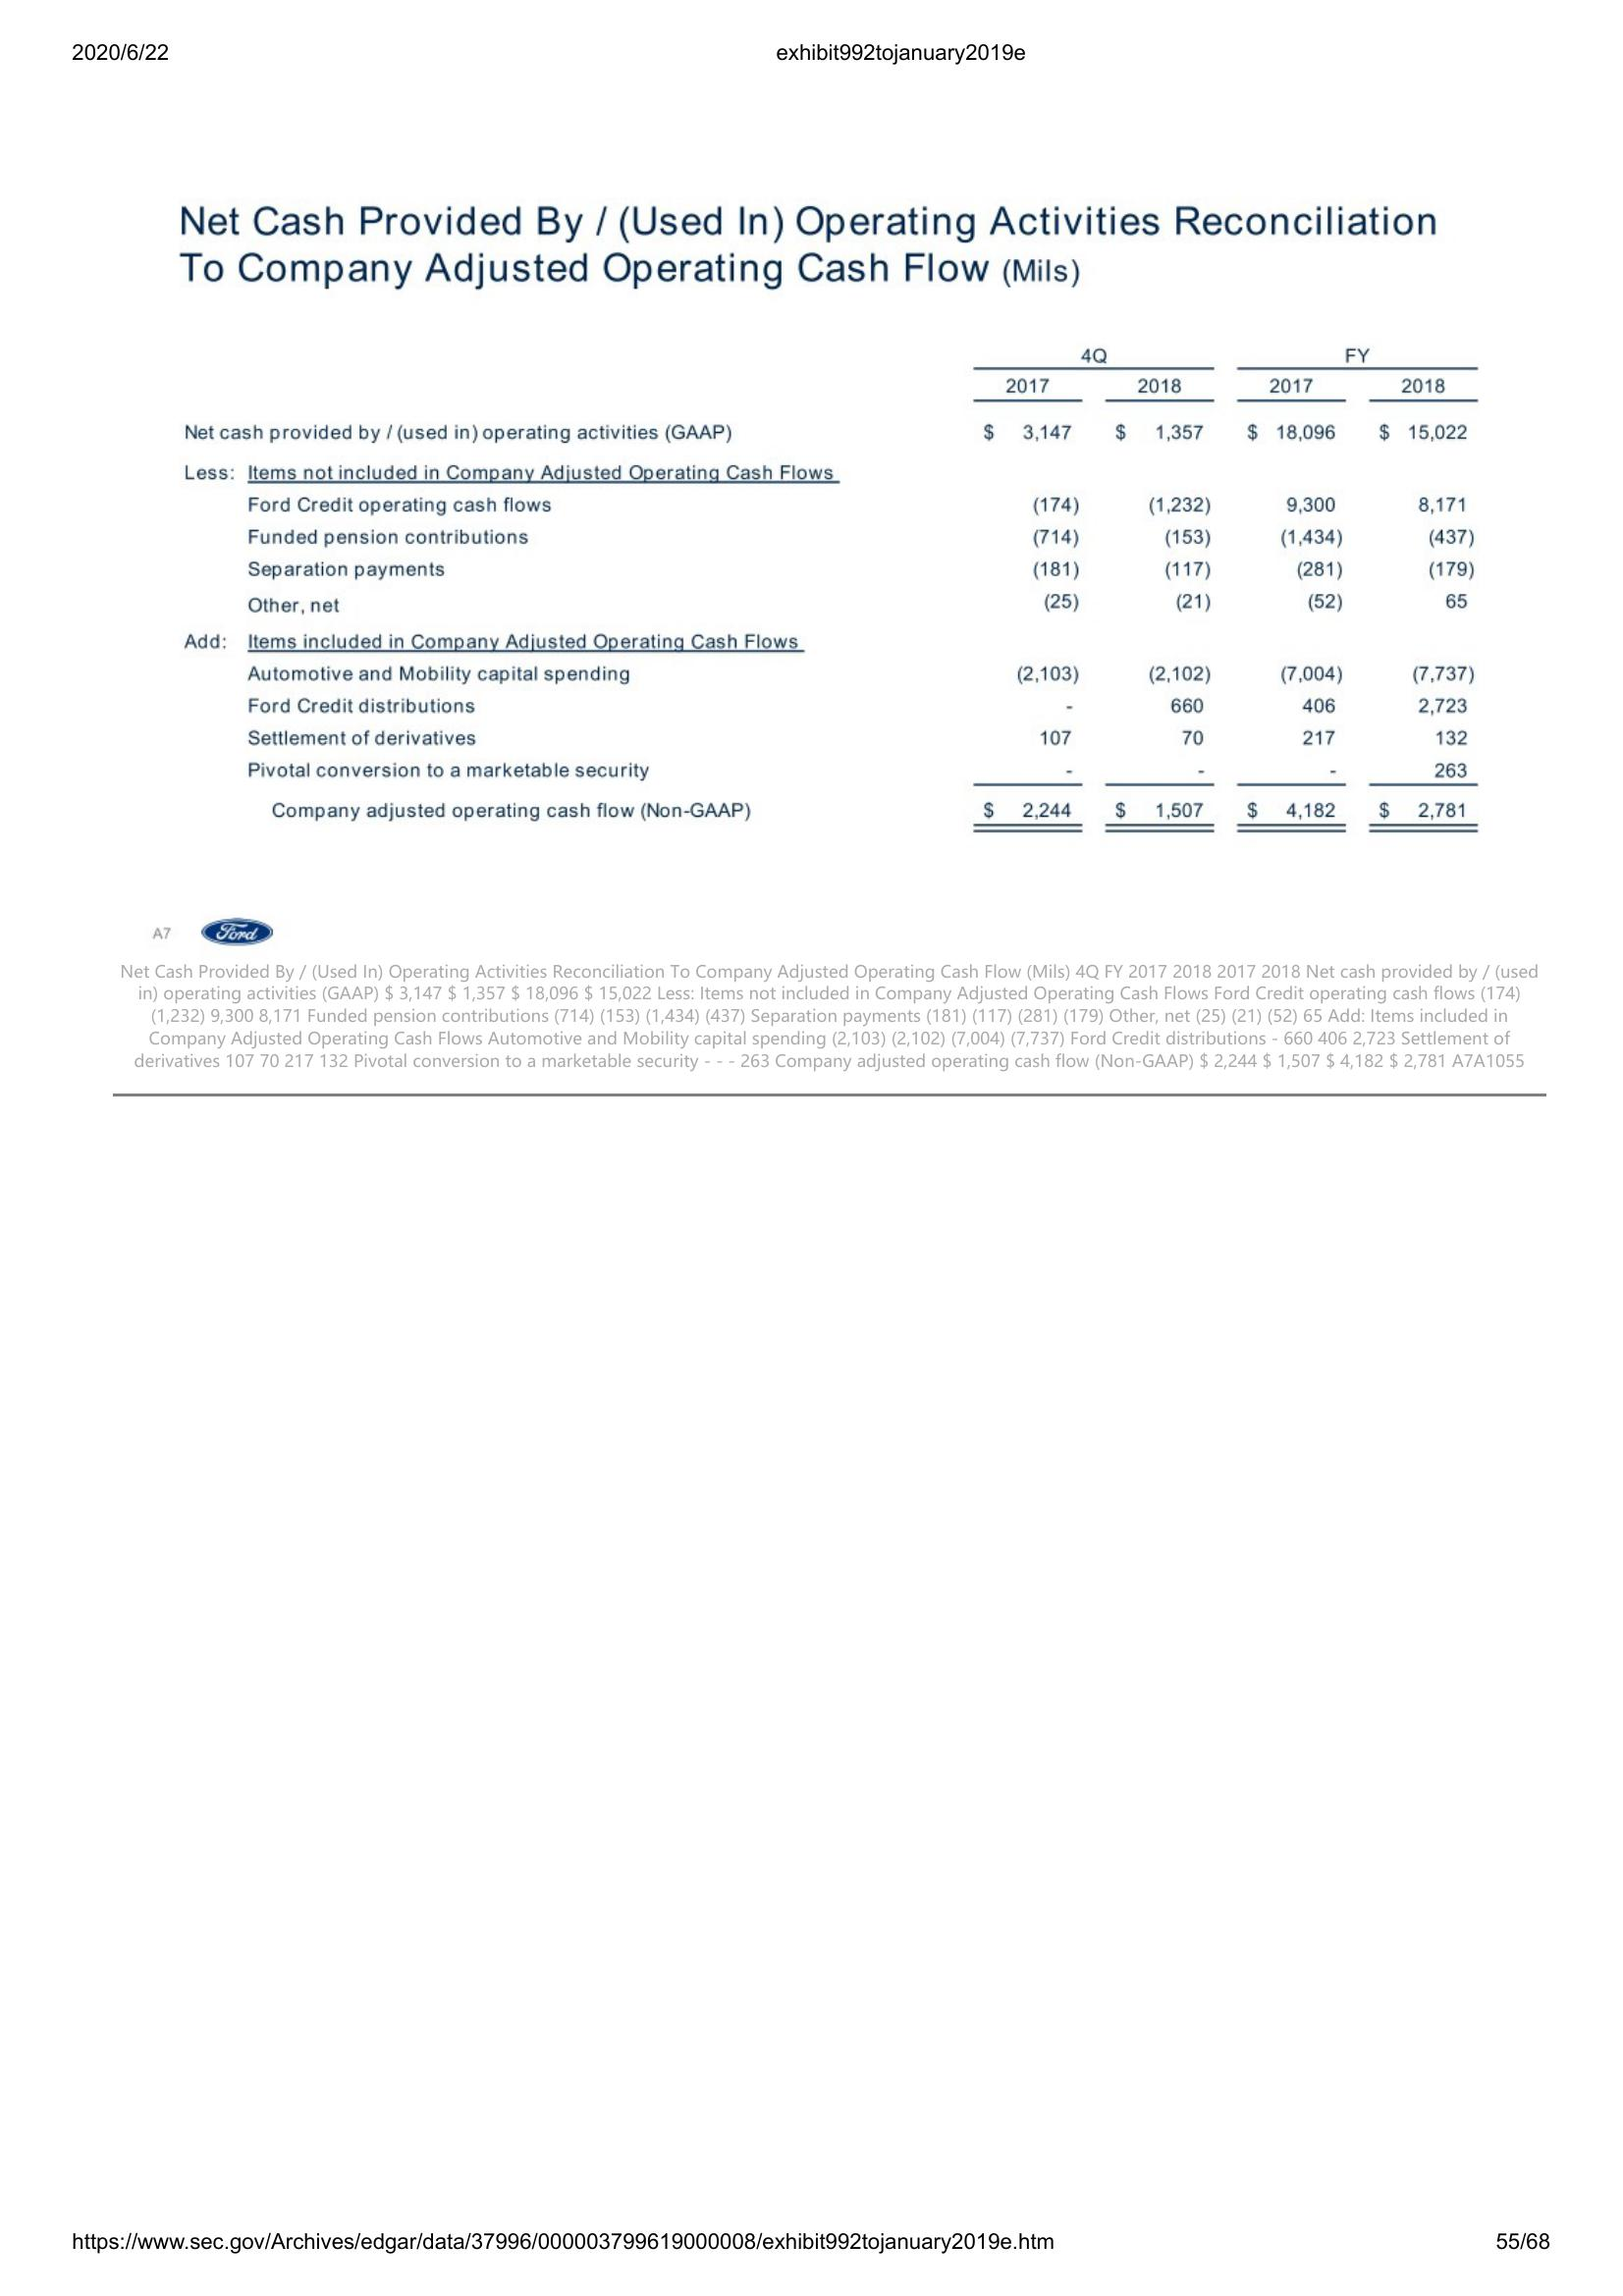table: (177, 325, 1491, 841)
